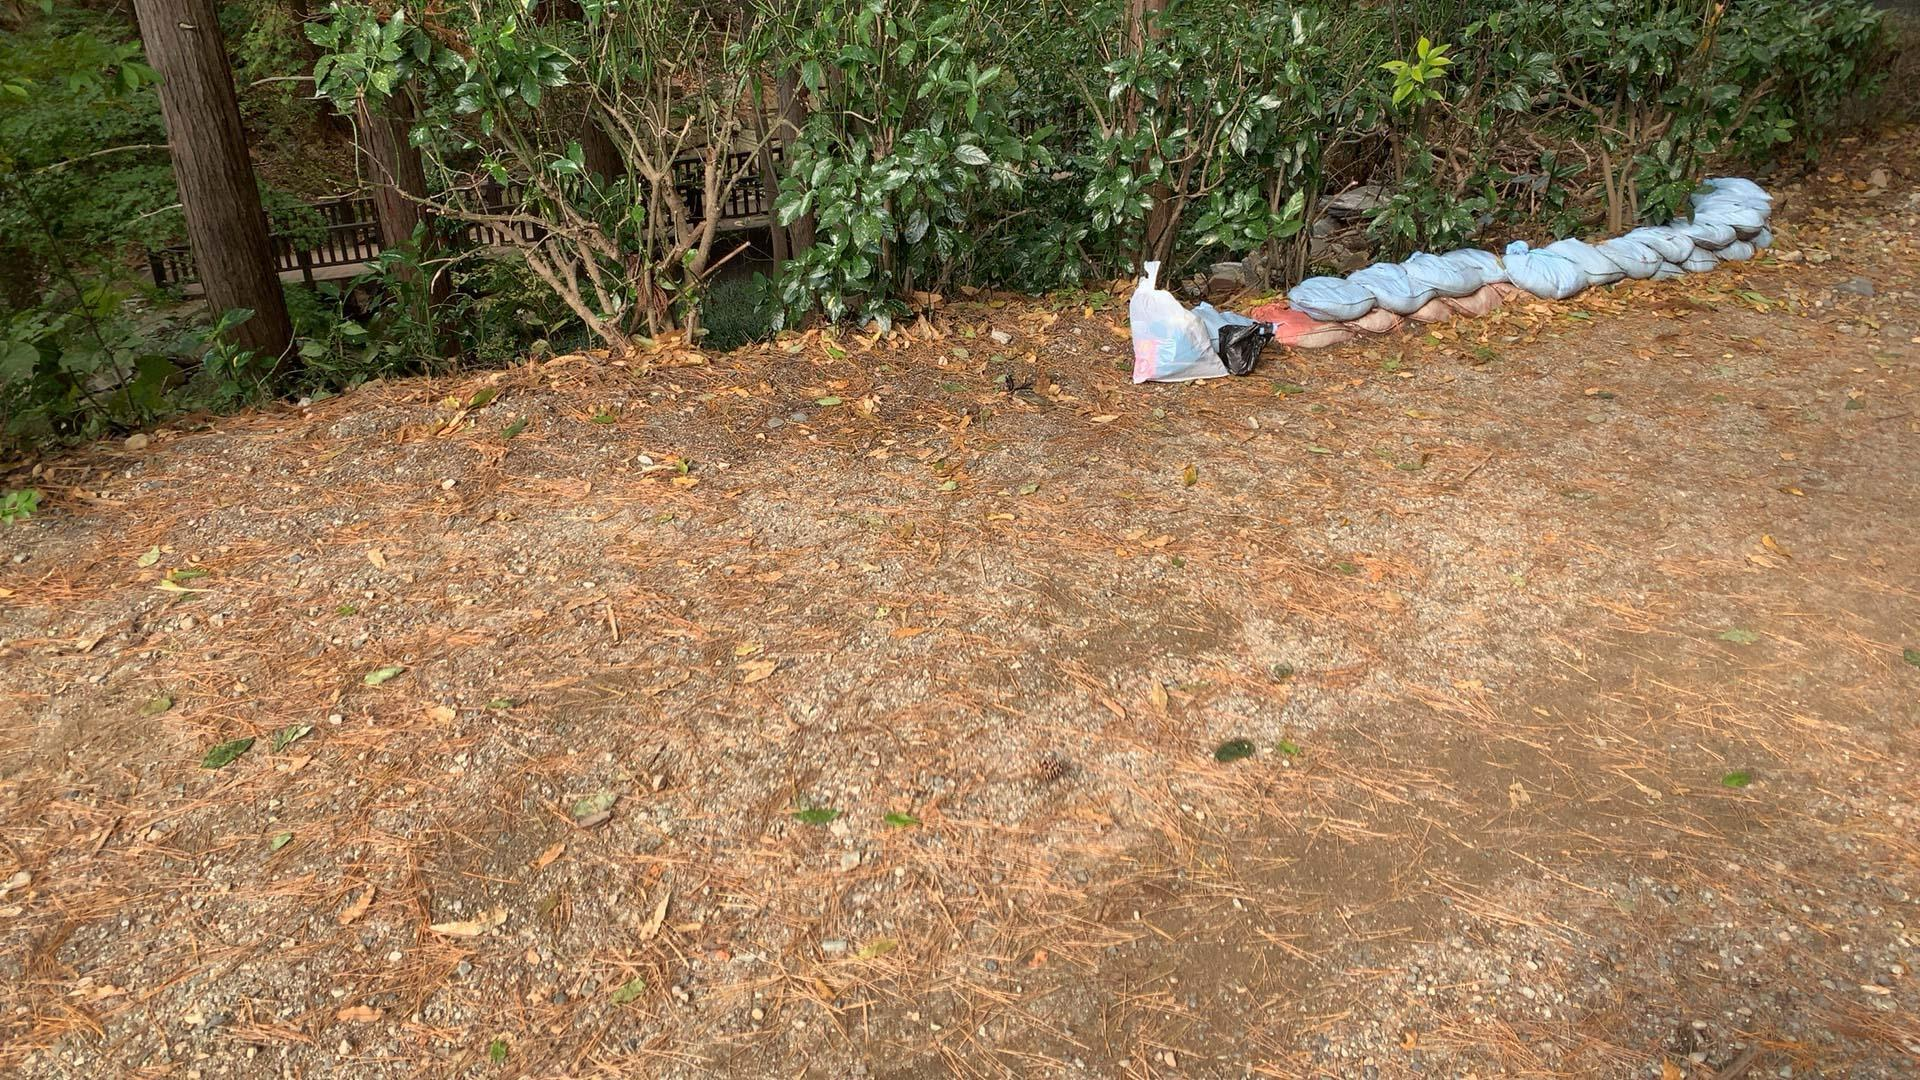black_bag: (1215, 315, 1273, 378)
white_bag: (1117, 255, 1232, 386)
